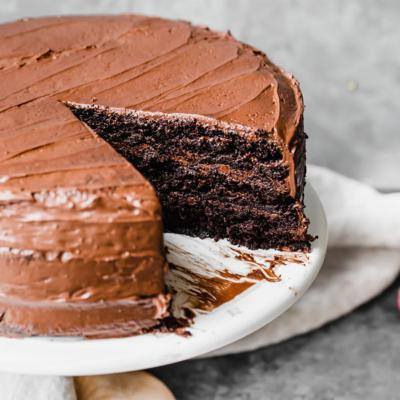cake: (1, 11, 312, 344)
